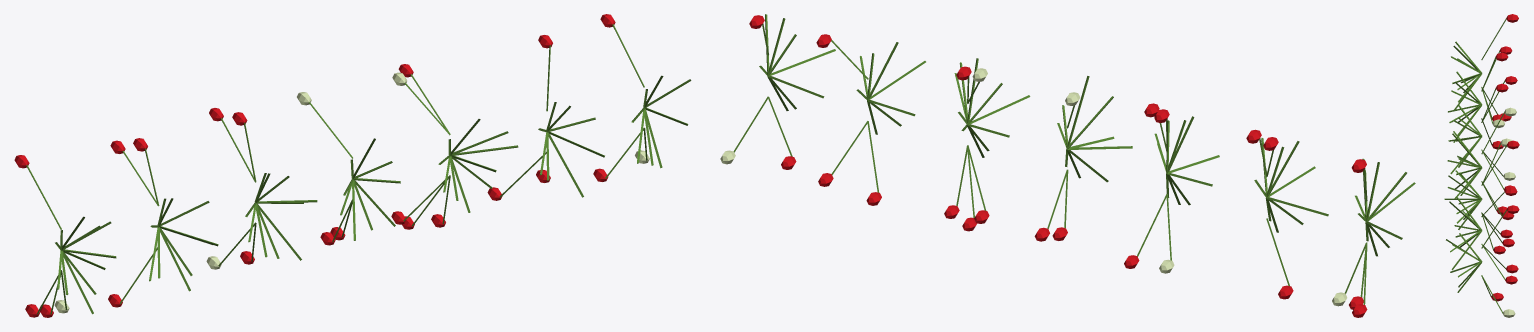
The model's file is r2c2_rest.obj.
The picture shows the model from 3 angles, left to right: view 1: azimuth 30°, elevation 25°; view 2: azimuth 150°, elevation 25°; view 3: azimuth 270°, elevation 25°; orthographic projection. The views are drawn at different scales.
Visible parts, largest first — view 1: r2c2_rest; view 2: r2c2_rest; view 3: r2c2_rest.
Part boxes in pixels (x1,y1,x2,y2): r2c2_rest: (14, 14, 691, 317); r2c2_rest: (720, 14, 1415, 317); r2c2_rest: (1444, 14, 1519, 317).
Size of the model in its own units: 1.64 by 0.4024 by 0.2542.
